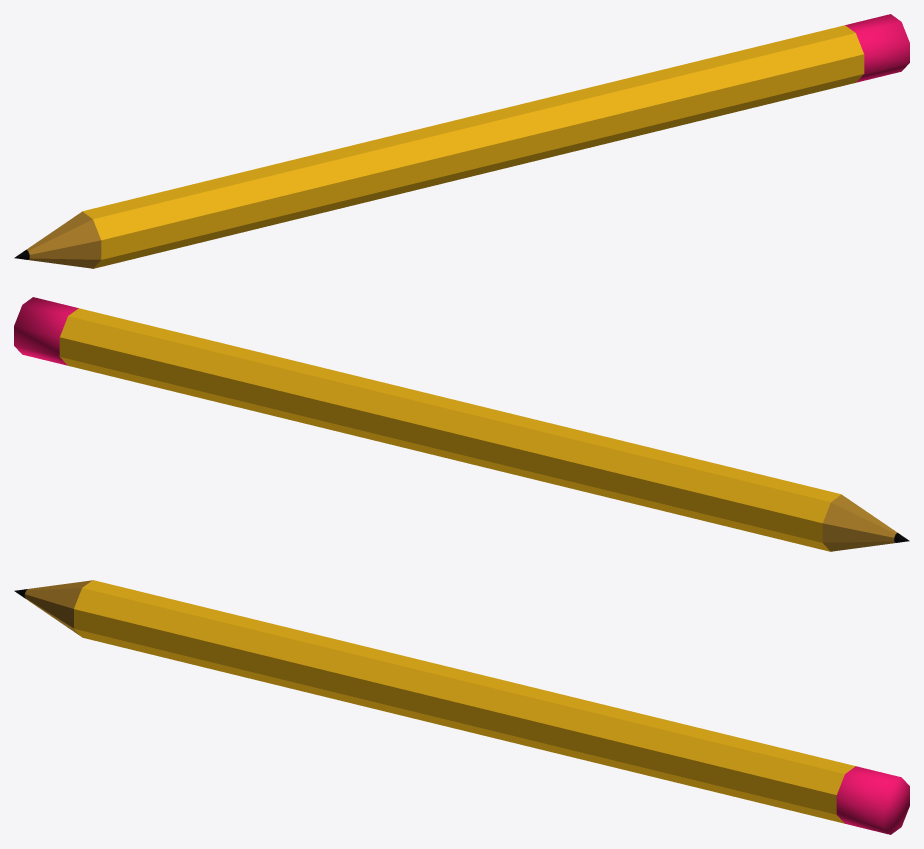
File: Pencil.fbx
3 renders of one model, top to bottom at view 1: azimuth 30°, elevation 25°; view 2: azimuth 150°, elevation 25°; view 3: azimuth 330°, elevation 25°, orthographic.
Parts seen in each view (by area): view 1: Pencil; view 2: Pencil; view 3: Pencil.
Boxes of the visible parts, left/top/right/bottom form: Pencil: left=14, top=14, right=909, bottom=268; Pencil: left=14, top=297, right=909, bottom=551; Pencil: left=14, top=580, right=909, bottom=834.
Bounding box in the file's own units: 322 × 17.36 × 17.36.
